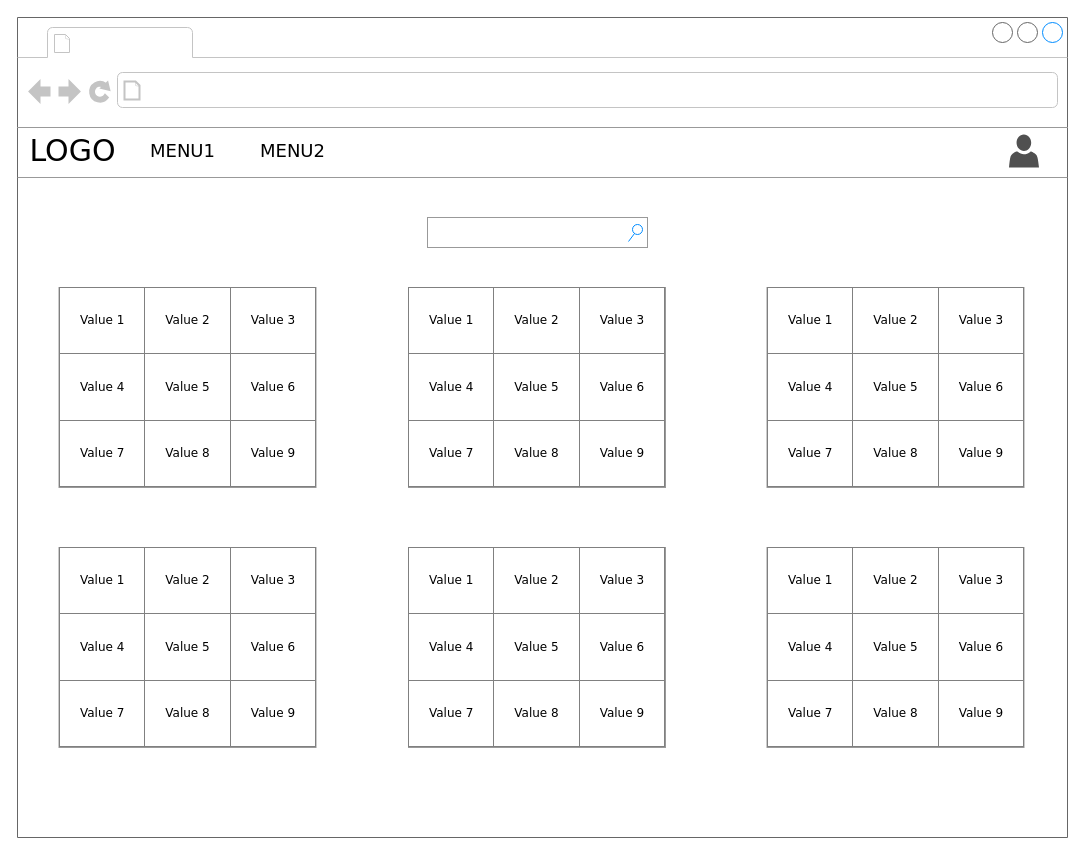
Image size: 1085x855. Some labels were removed from this diagram. The shapes that lost their labels are listed below. From the top down, each one's centre as x and y in pixels, then its label:
At pixel 132 42: "Page 1".
At pixel 272 90: "https://www.default.com".
At pixel 537 232: "Search".
